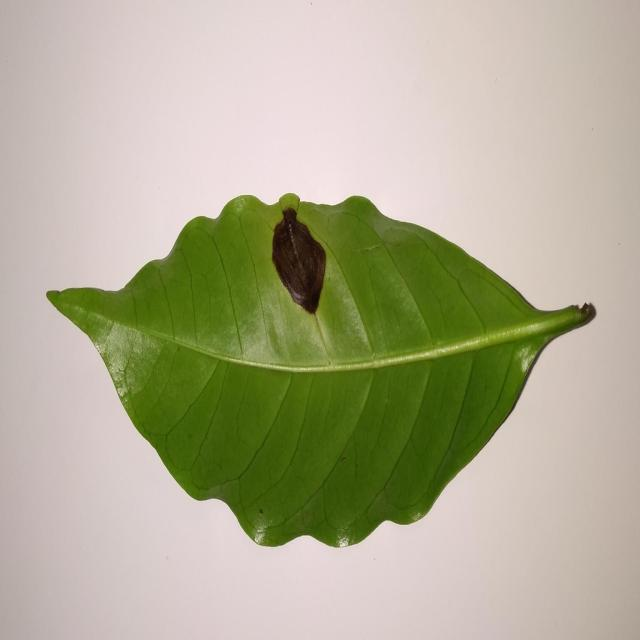phoma: (272, 208, 326, 313)
